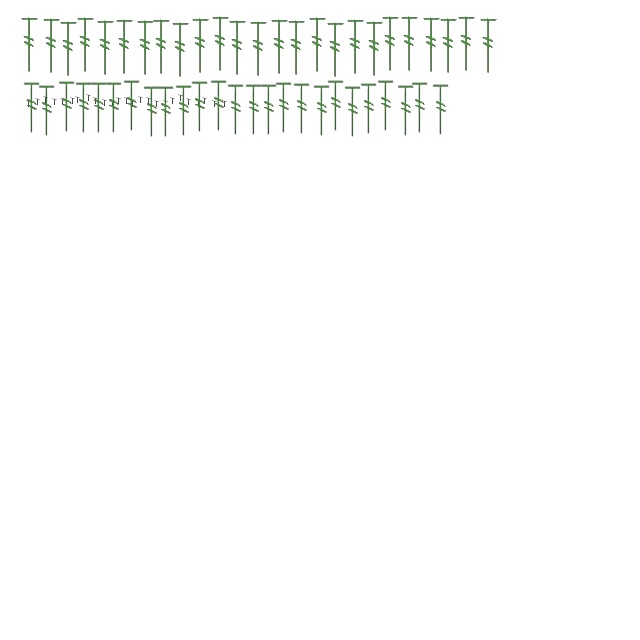enseble_chain: (26, 100, 32, 108), (52, 98, 58, 106), (60, 98, 66, 106), (86, 94, 92, 102), (130, 100, 136, 108), (138, 96, 144, 104), (154, 100, 160, 108), (178, 94, 184, 102), (186, 98, 192, 106), (196, 100, 202, 108), (212, 100, 218, 108), (222, 100, 228, 108), (70, 98, 76, 104), (102, 100, 108, 106), (110, 100, 116, 106), (116, 98, 122, 104), (124, 98, 130, 104), (146, 98, 152, 104), (170, 98, 176, 104), (202, 98, 208, 104), (36, 98, 40, 106), (44, 96, 48, 104), (76, 96, 80, 104), (164, 100, 168, 108), (94, 98, 98, 104)
fan: (58, 19, 80, 79), (114, 17, 136, 77), (170, 20, 192, 80), (190, 16, 212, 76), (210, 14, 232, 74), (248, 19, 270, 79), (286, 18, 308, 78), (364, 19, 386, 79), (380, 14, 402, 74), (438, 16, 460, 76), (456, 14, 478, 74), (478, 16, 500, 76), (20, 15, 40, 75), (42, 16, 62, 76), (76, 15, 96, 75), (96, 18, 116, 78), (136, 18, 156, 78), (152, 17, 172, 77), (228, 18, 248, 78), (270, 17, 290, 77), (308, 15, 328, 75), (326, 20, 346, 80), (346, 17, 366, 77), (400, 14, 420, 74), (422, 15, 442, 75), (37, 84, 57, 138), (57, 80, 77, 134), (174, 84, 194, 138), (190, 80, 210, 134), (292, 82, 312, 136), (312, 84, 332, 138), (359, 82, 379, 136), (396, 84, 416, 138), (22, 82, 42, 134), (74, 82, 94, 134), (89, 82, 109, 134), (104, 82, 124, 134), (122, 80, 142, 132), (142, 86, 162, 138), (156, 86, 176, 138), (209, 80, 229, 132), (226, 84, 246, 136), (244, 84, 264, 136), (259, 84, 279, 136), (274, 82, 294, 134), (326, 80, 346, 132), (343, 86, 363, 138), (376, 80, 396, 132), (410, 82, 430, 134), (431, 84, 451, 136)
